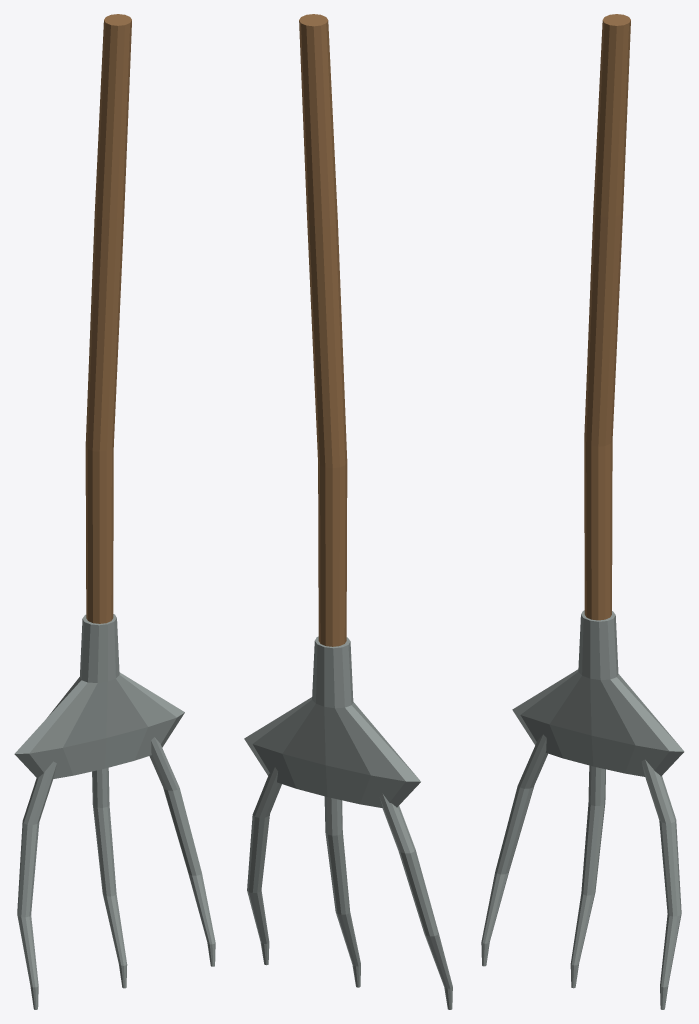
The picture shows the model from 3 angles, left to right: view 1: azimuth 30°, elevation 25°; view 2: azimuth 150°, elevation 25°; view 3: azimuth 330°, elevation 25°; orthographic projection. The views are drawn at different scales.
Visible parts, largest first — view 1: WholeSlightlyCurvedLongWoodShaft, WholeBroadShoulderAndSocket, WholeCurvedTaperedTine1, WholeCurvedTaperedTine3, WholeCurvedTaperedTine2; view 2: WholeSlightlyCurvedLongWoodShaft, WholeBroadShoulderAndSocket, WholeCurvedTaperedTine1, WholeCurvedTaperedTine2, WholeCurvedTaperedTine3; view 3: WholeSlightlyCurvedLongWoodShaft, WholeBroadShoulderAndSocket, WholeCurvedTaperedTine3, WholeCurvedTaperedTine1, WholeCurvedTaperedTine2.
Part boxes in pixels (box(x1,y1,x2,y2)): WholeSlightlyCurvedLongWoodShaft: box(85, 14, 131, 623); WholeBroadShoulderAndSocket: box(14, 614, 184, 778); WholeCurvedTaperedTine1: box(17, 761, 56, 1009); WholeCurvedTaperedTine3: box(149, 737, 215, 966); WholeCurvedTaperedTine2: box(92, 767, 127, 988); WholeSlightlyCurvedLongWoodShaft: box(299, 14, 347, 646); WholeBroadShoulderAndSocket: box(244, 636, 420, 808); WholeCurvedTaperedTine1: box(379, 793, 452, 1009); WholeCurvedTaperedTine2: box(324, 796, 360, 987); WholeCurvedTaperedTine3: box(247, 767, 281, 965); WholeSlightlyCurvedLongWoodShaft: box(584, 14, 630, 620); WholeBroadShoulderAndSocket: box(512, 610, 684, 776); WholeCurvedTaperedTine3: box(641, 759, 681, 1009); WholeCurvedTaperedTine1: box(481, 734, 547, 966); WholeCurvedTaperedTine2: box(570, 765, 605, 988).
Bounding box in the file's own units: 0.302 × 1.48 × 0.0959.
